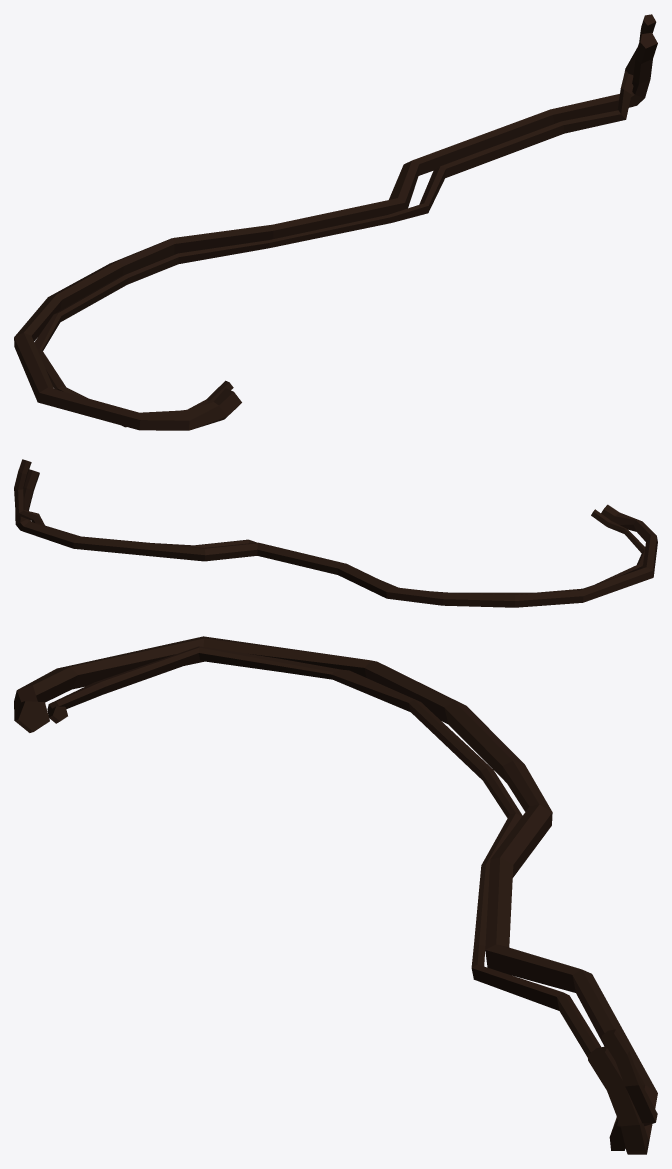
File: arcade machine cables.fbx
The picture shows the model from 3 angles, top to bottom: view 1: azimuth 30°, elevation 25°; view 2: azimuth 150°, elevation 25°; view 3: azimuth 270°, elevation 25°; orthographic projection. The views are drawn at different scales.
Visible parts, largest first — view 1: Circle.015, Circle.016; view 2: Circle.015, Circle.016; view 3: Circle.015, Circle.016.
Part boxes in pixels (x1,y1,x2,y2): Circle.015: (14, 32, 657, 430); Circle.016: (34, 14, 656, 427); Circle.015: (15, 469, 657, 607); Circle.016: (14, 459, 645, 594); Circle.015: (14, 636, 657, 1154); Circle.016: (47, 646, 657, 1150).
Bounding box in the file's own units: 3388 × 433 × 1787.
